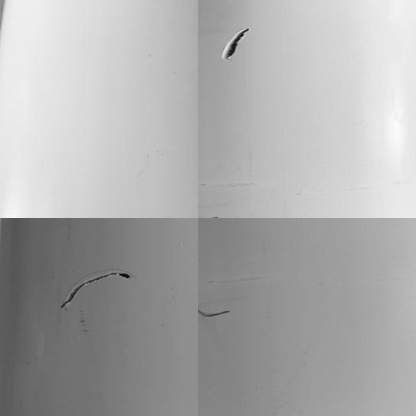fengxi: (54, 267, 138, 308), (197, 304, 229, 320)
kongdong: (219, 22, 252, 61)
